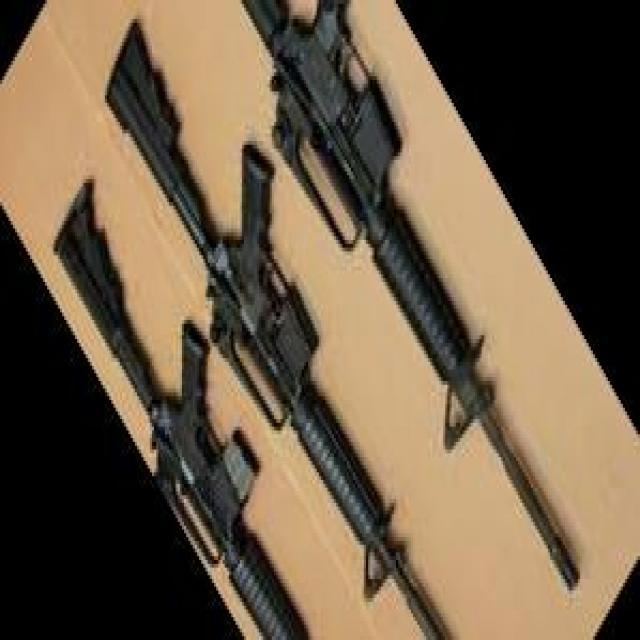weapon: (104, 19, 446, 640), (242, 0, 580, 593), (51, 178, 311, 640)
